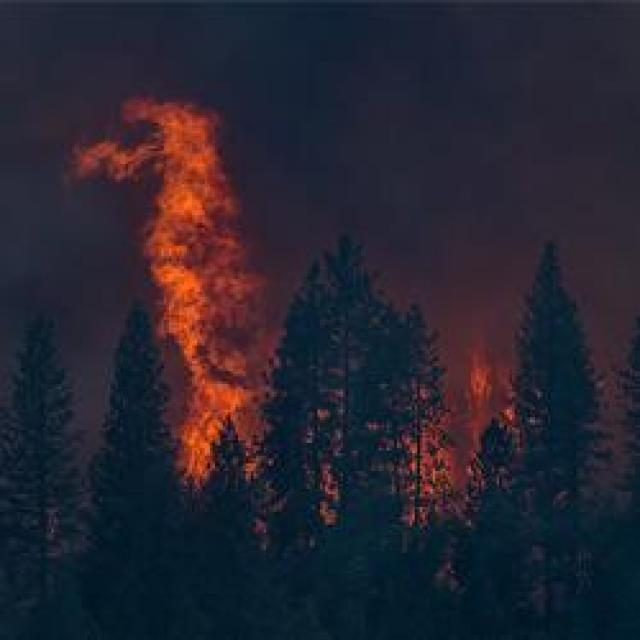fire: (112, 95, 268, 469)
